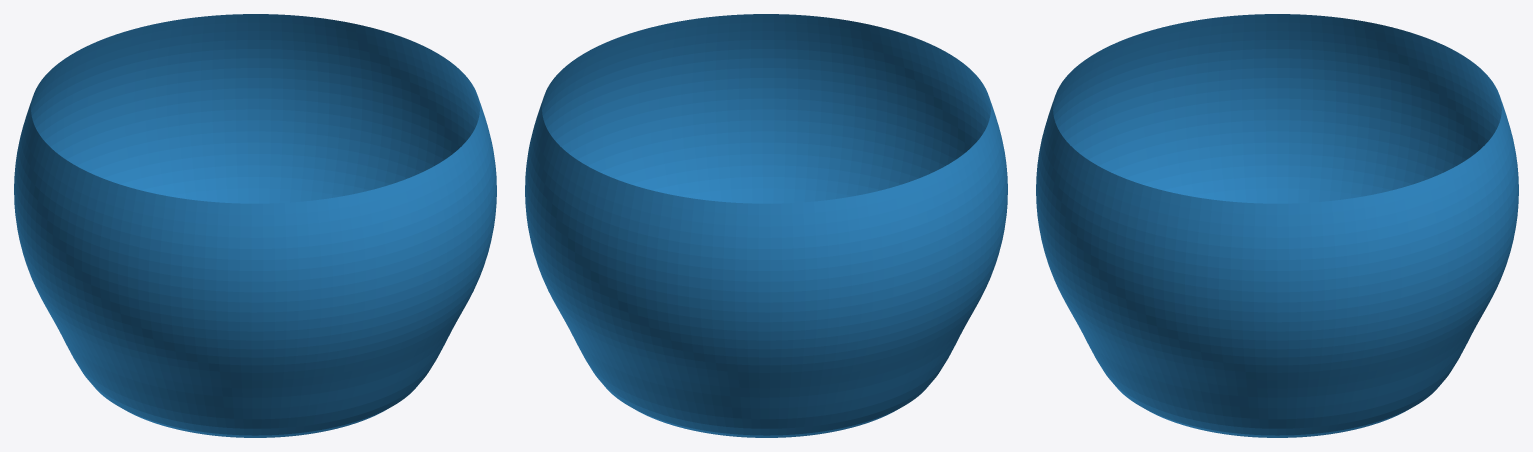
The model's file is bowl.dae.
The picture shows the model from 3 angles, left to right: view 1: azimuth 30°, elevation 25°; view 2: azimuth 150°, elevation 25°; view 3: azimuth 270°, elevation 25°; orthographic projection.
Parts seen in each view (by area): view 1: Sphere; view 2: Sphere; view 3: Sphere.
Boxes of the visible parts, <box> form: Sphere: <box>14,14,496,437</box>; Sphere: <box>525,14,1007,437</box>; Sphere: <box>1036,14,1518,437</box>.
Size of the model in its own units: 0.2412 by 0.2412 by 0.1458.
